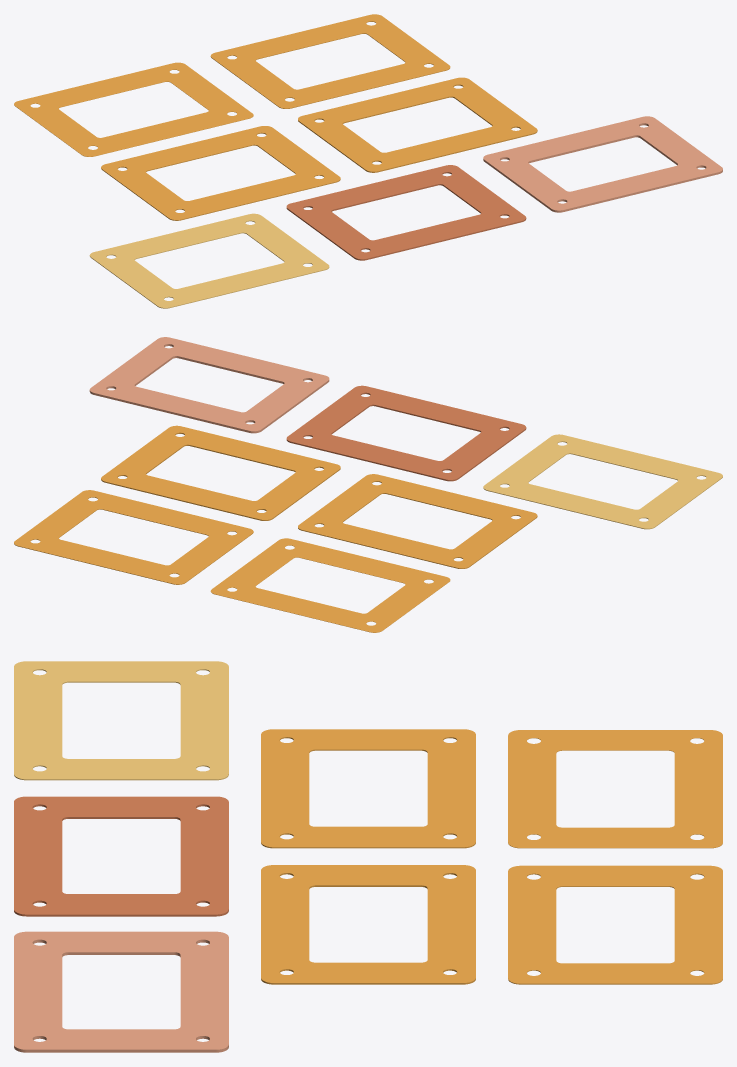
Rendered from shims.glb.
The picture shows the model from 3 angles, top to bottom: view 1: azimuth 30°, elevation 25°; view 2: azimuth 150°, elevation 25°; view 3: azimuth 270°, elevation 25°; orthographic projection. The views are drawn at different scales.
Visible parts, largest first — view 1: LAPS Marle | shims | shim15, LAPS Marle | shims | shim10, LAPS Marle | shims | base08, LAPS Marle | shims | base06, LAPS Marle | shims | shim05, LAPS Marle | shims | base04, LAPS Marle | shims | base02; view 2: LAPS Marle | shims | shim15, LAPS Marle | shims | shim10, LAPS Marle | shims | base08, LAPS Marle | shims | base06, LAPS Marle | shims | shim05, LAPS Marle | shims | base04, LAPS Marle | shims | base02; view 3: LAPS Marle | shims | shim15, LAPS Marle | shims | shim10, LAPS Marle | shims | base08, LAPS Marle | shims | base06, LAPS Marle | shims | shim05, LAPS Marle | shims | base04, LAPS Marle | shims | base02.
Boxes of the visible parts, x1,y1,x2,y2 form: LAPS Marle | shims | shim15: (483, 116, 722, 212); LAPS Marle | shims | shim10: (286, 165, 526, 260); LAPS Marle | shims | base08: (298, 77, 537, 172); LAPS Marle | shims | base06: (101, 126, 340, 220); LAPS Marle | shims | shim05: (89, 213, 329, 308); LAPS Marle | shims | base04: (210, 14, 450, 108); LAPS Marle | shims | base02: (14, 62, 253, 156); LAPS Marle | shims | shim15: (89, 337, 329, 433); LAPS Marle | shims | shim10: (286, 385, 526, 481); LAPS Marle | shims | base08: (101, 425, 340, 520); LAPS Marle | shims | base06: (298, 474, 537, 568); LAPS Marle | shims | shim05: (483, 434, 722, 529); LAPS Marle | shims | base04: (14, 490, 253, 584); LAPS Marle | shims | base02: (210, 538, 450, 632); LAPS Marle | shims | shim15: (14, 931, 228, 1052); LAPS Marle | shims | shim10: (14, 796, 228, 916); LAPS Marle | shims | base08: (261, 865, 475, 984); LAPS Marle | shims | base06: (261, 729, 475, 848); LAPS Marle | shims | shim05: (14, 661, 228, 780); LAPS Marle | shims | base04: (508, 865, 722, 984); LAPS Marle | shims | base02: (508, 730, 722, 848).
Size of the model in its own units: 0.43 by 0.0015 by 0.33.
